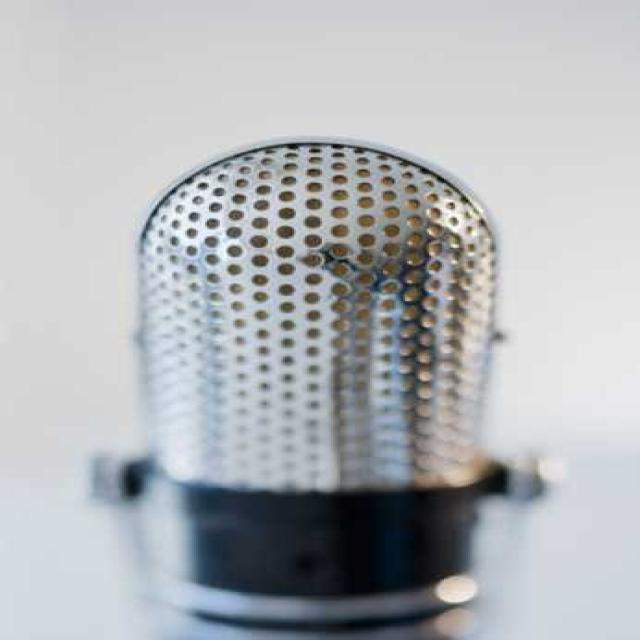microphone: (100, 118, 570, 612)
